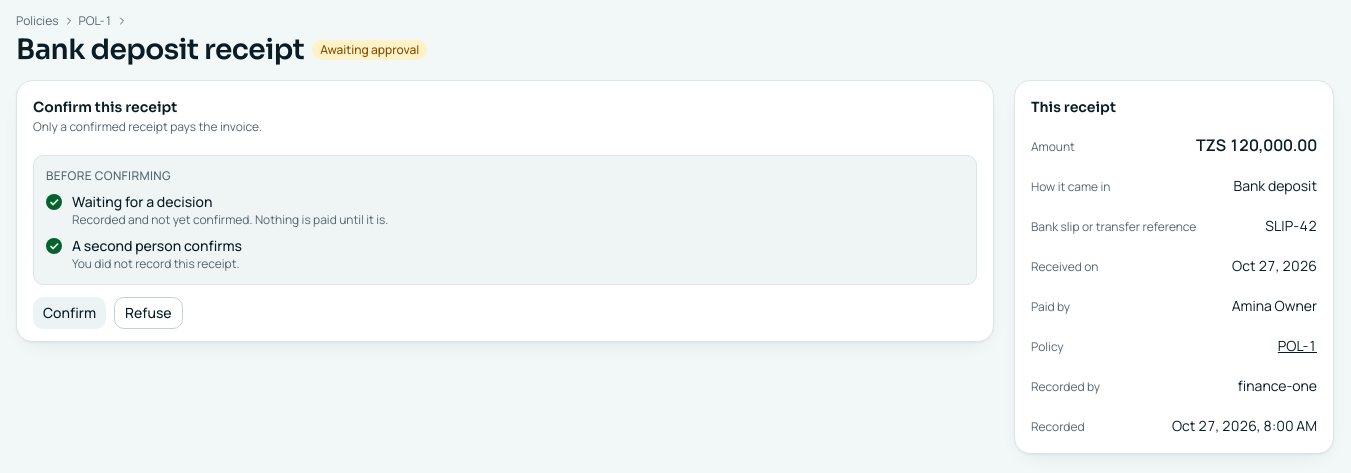
it: ReceiptPage › asks for a reason before refusing
What coordinates should you click on to do the following:
click the button "Refuse"
I would click on:
 (148, 313)
Its box is [114,297,183,329].
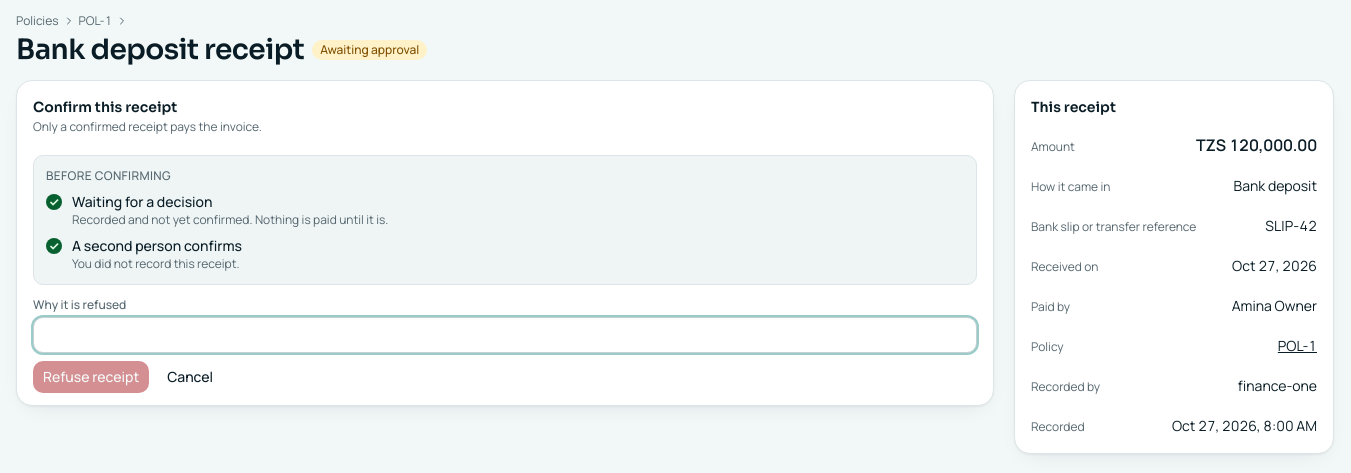
Result: the button "Refuse receipt" is disabled at [33,361,149,393]
